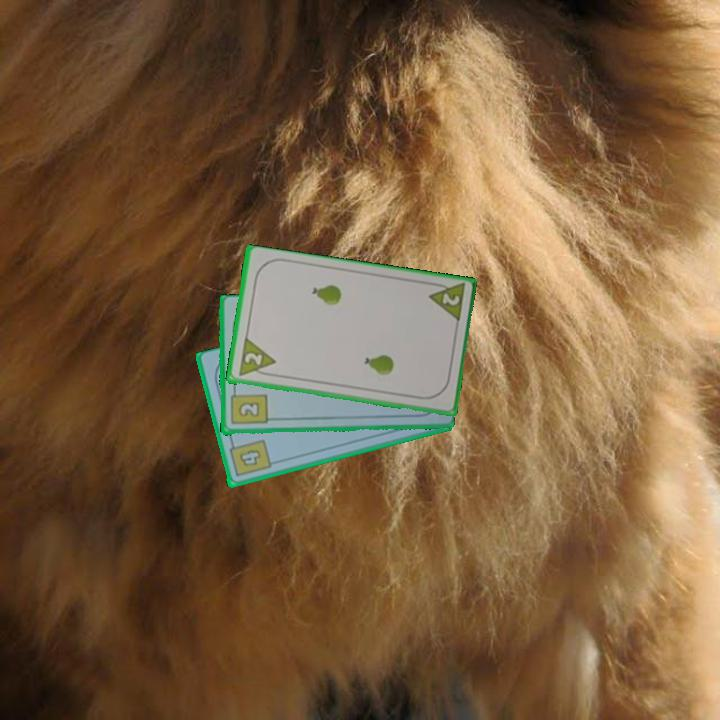2b: (227, 386, 269, 427)
2p: (425, 279, 468, 326), (241, 349, 265, 368)
4b: (225, 437, 273, 480)
